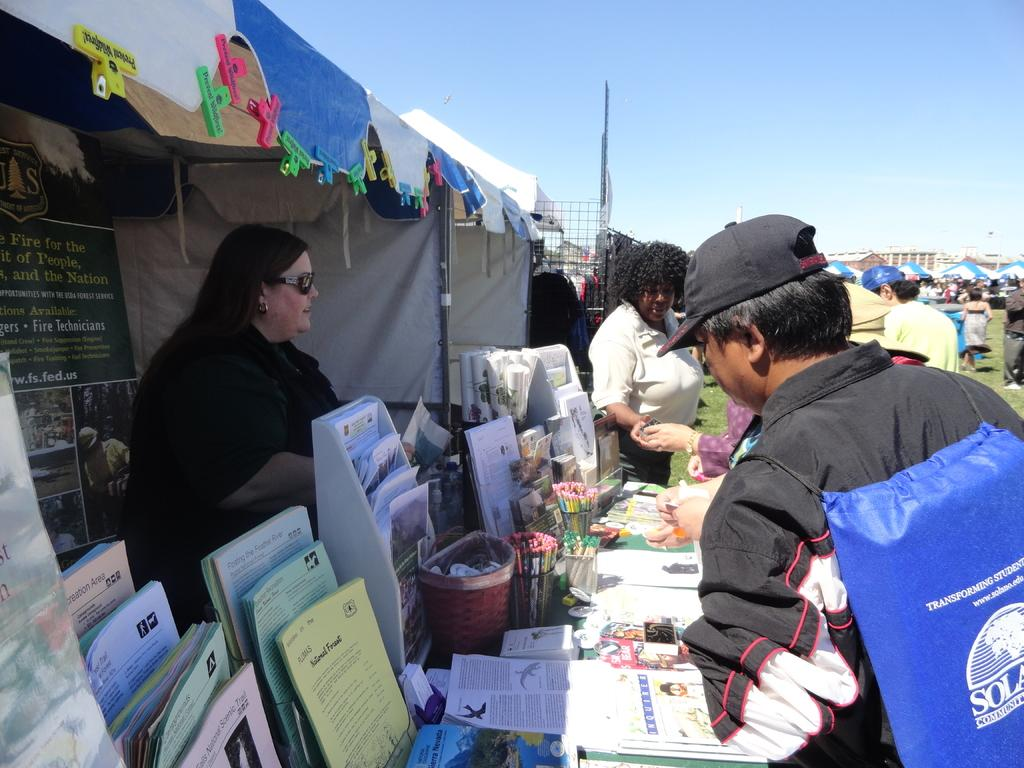Hat: (655, 213, 826, 356), (862, 264, 902, 290), (658, 679, 671, 694)
